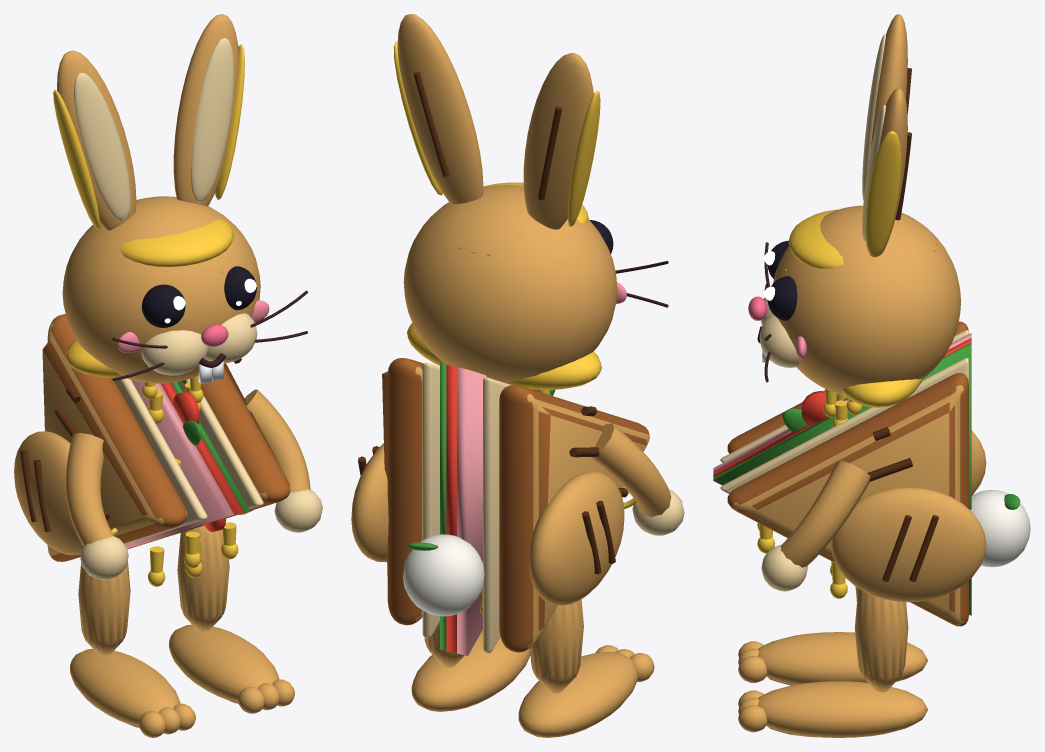
The model's file is paninikanin.glb.
3 renders of one model, left to right at view 1: azimuth 30°, elevation 25°; view 2: azimuth 150°, elevation 25°; view 3: azimuth 270°, elevation 25°, orthographic. The views are drawn at different scales.
Parts seen in each view (by area): view 1: kropp, hode, bein_hf, bein_vf, ore_h, ore_v, vinge_v, vinge_h; view 2: kropp, hode, bein_vf, ore_h, ore_v, bein_hf, hale, vinge_v; view 3: kropp, hode, bein_hf, bein_vf, vinge_h, ore_h, hale, ore_v.
Part boxes in pixels (bbox=[...]): kropp: bbox=[14, 314, 290, 586]; hode: bbox=[62, 196, 307, 384]; bein_hf: bbox=[169, 525, 294, 713]; bein_vf: bbox=[70, 560, 195, 737]; ore_h: bbox=[173, 14, 244, 206]; ore_v: bbox=[53, 50, 136, 230]; vinge_v: bbox=[66, 433, 128, 579]; vinge_h: bbox=[244, 389, 322, 532]; kropp: bbox=[351, 323, 649, 655]; hode: bbox=[403, 182, 668, 383]; bein_vf: bbox=[518, 599, 654, 737]; ore_h: bbox=[393, 14, 483, 204]; ore_v: bbox=[523, 53, 600, 229]; bein_hf: bbox=[411, 622, 530, 711]; hale: bbox=[403, 534, 484, 616]; vinge_v: bbox=[591, 423, 684, 535]; kropp: bbox=[713, 321, 986, 626]; hode: bbox=[748, 205, 960, 395]; bein_hf: bbox=[738, 588, 927, 737]; bein_vf: bbox=[738, 586, 927, 685]; vinge_h: bbox=[761, 460, 870, 591]; ore_h: bbox=[862, 88, 911, 258]; hale: bbox=[970, 490, 1030, 567]; ore_v: bbox=[862, 14, 911, 200].
Bounding box in the file's own units: 0.718 × 1.87 × 0.8185.
